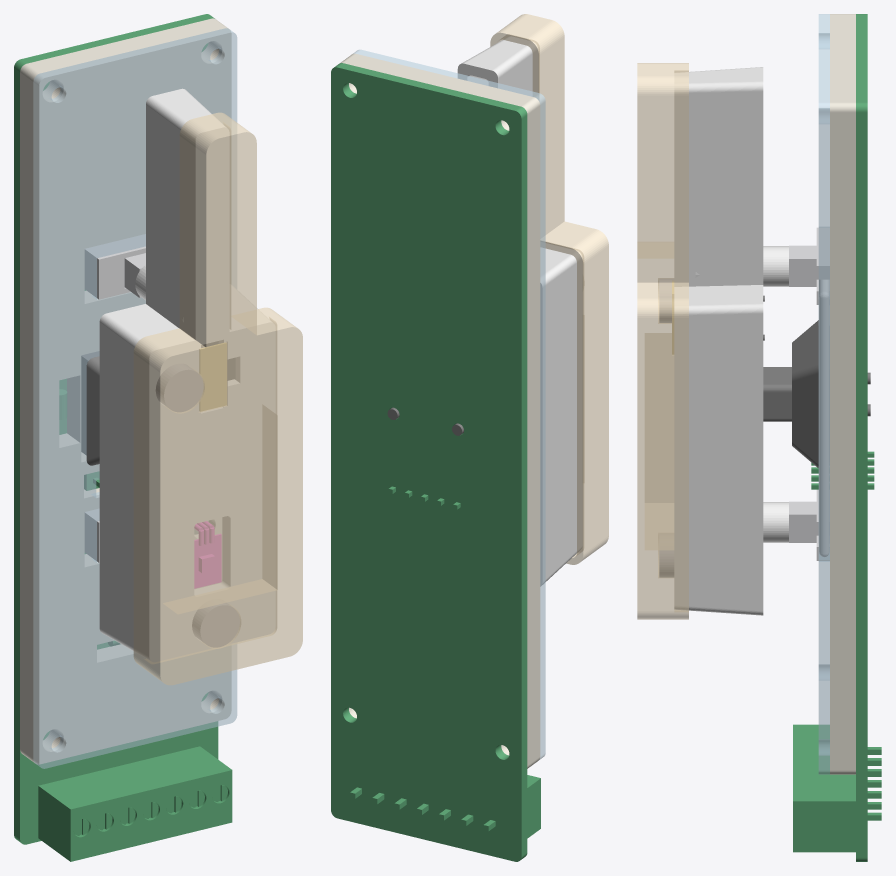
Rendered from stack_assembled.glb.
The picture shows the model from 3 angles, left to right: view 1: azimuth 30°, elevation 25°; view 2: azimuth 150°, elevation 25°; view 3: azimuth 270°, elevation 25°; orthographic projection. The views are drawn at different scales.
Parts seen in each view (by area): view 1: 2_foam, 5_topper, 3_acrylic_plate, 4_key, 1_pcb, 3b_stabilizer, 5a_magnets_topper, 3a_switch, 5b_short_plate, 4a_rgb_led_strip_piece; view 2: 1_pcb, 5_topper, 4_key, 2_foam, 3_acrylic_plate; view 3: 4_key, 5_topper, 2_foam, 1_pcb, 3_acrylic_plate, 3b_stabilizer, 3a_switch, 5a_magnets_topper.
Boxes of the visible parts, x1=… form: 2_foam: x1=20, y1=18, x2=231, y2=764; 5_topper: x1=133, y1=112, x2=302, y2=685; 3_acrylic_plate: x1=33, y1=28, x2=237, y2=768; 4_key: x1=99, y1=88, x2=275, y2=661; 1_pcb: x1=14, y1=14, x2=232, y2=861; 3b_stabilizer: x1=85, y1=234, x2=145, y2=562; 5a_magnets_topper: x1=156, y1=364, x2=239, y2=647; 3a_switch: x1=81, y1=351, x2=99, y2=465; 5b_short_plate: x1=199, y1=342, x2=226, y2=411; 4a_rgb_led_strip_piece: x1=194, y1=521, x2=221, y2=588; 1_pcb: x1=331, y1=63, x2=540, y2=861; 5_topper: x1=490, y1=14, x2=608, y2=564; 4_key: x1=457, y1=36, x2=582, y2=586; 2_foam: x1=340, y1=53, x2=540, y2=768; 3_acrylic_plate: x1=353, y1=49, x2=545, y2=759; 4_key: x1=674, y1=67, x2=788, y2=615; 5_topper: x1=637, y1=63, x2=688, y2=619; 2_foam: x1=830, y1=14, x2=855, y2=774; 1_pcb: x1=793, y1=14, x2=881, y2=861; 3_acrylic_plate: x1=818, y1=14, x2=829, y2=774; 3b_stabilizer: x1=789, y1=227, x2=829, y2=560; 3a_switch: x1=763, y1=320, x2=870, y2=468; 5a_magnets_topper: x1=659, y1=279, x2=673, y2=577.
Size of the model in its own units: 30 by 113 by 33.
